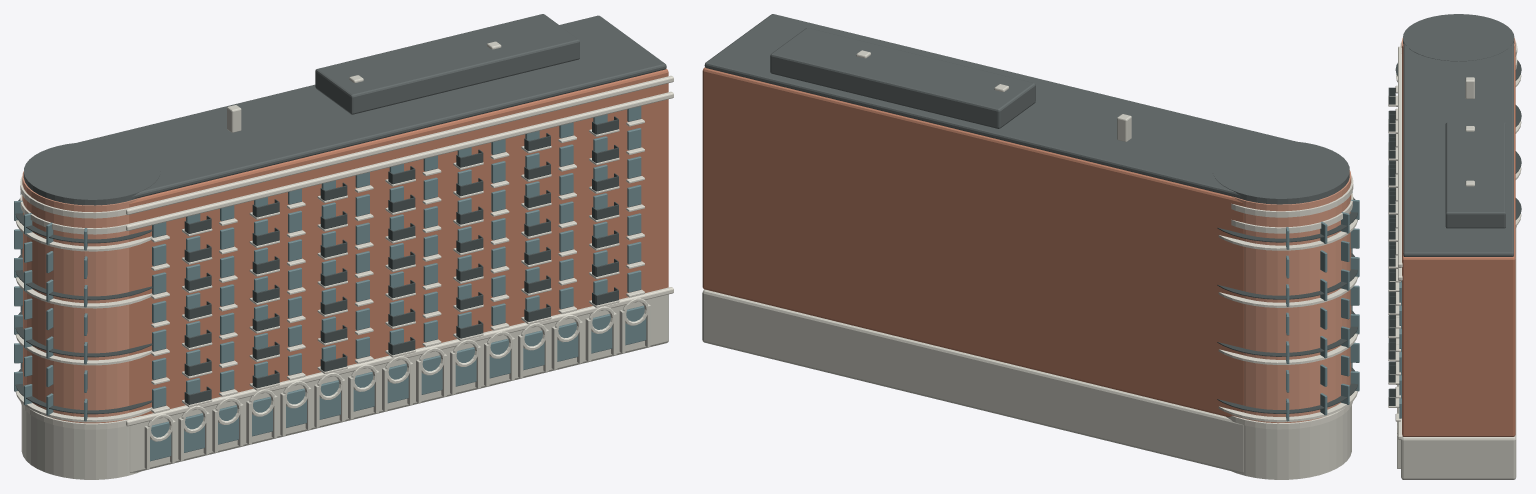
Rendered from wukang-mansion.glb.
3 views of the same model, side by side, from view 1: azimuth 30°, elevation 25°; view 2: azimuth 150°, elevation 25°; view 3: azimuth 270°, elevation 25° (orthographic). The views are drawn at different scales.
Parts seen in each view (by area): view 1: runtime-warm brick, runtime-flat charcoal roof, runtime-blue grey glass, runtime-cream trim, runtime-limestone, runtime-dark balcony iron, runtime-sunlit brick; view 2: runtime-warm brick, runtime-flat charcoal roof, runtime-limestone, runtime-sunlit brick, runtime-cream trim, runtime-blue grey glass, runtime-dark balcony iron; view 3: runtime-flat charcoal roof, runtime-warm brick, runtime-limestone, runtime-cream trim, runtime-dark balcony iron, runtime-blue grey glass.
Boxes of the visible parts, box(x1,y1,x2,y2) form: runtime-warm brick: box(129, 69, 668, 418); runtime-flat charcoal roof: box(23, 14, 666, 205); runtime-blue grey glass: box(14, 106, 646, 461); runtime-cream trim: box(15, 75, 673, 429); runtime-limestone: box(21, 41, 668, 479); runtime-dark balcony iron: box(15, 116, 618, 414); runtime-sunlit brick: box(22, 171, 141, 423); runtime-warm brick: box(702, 67, 1243, 418); runtime-flat charcoal roof: box(704, 14, 1349, 204); runtime-limestone: box(702, 50, 1351, 479); runtime-sunlit brick: box(1231, 170, 1351, 423); runtime-cream trim: box(1218, 174, 1357, 429); runtime-blue grey glass: box(1286, 191, 1359, 421); runtime-dark balcony iron: box(1217, 197, 1357, 413); runtime-flat charcoal roof: box(1403, 14, 1514, 256); runtime-warm brick: box(1402, 45, 1515, 436); runtime-limestone: box(1397, 77, 1516, 479); runtime-cream trim: box(1388, 42, 1521, 439); runtime-dark balcony iron: box(1388, 60, 1521, 405); runtime-blue grey glass: box(1399, 281, 1401, 418).
Bounding box in the file's own units: 40.09 × 18.83 × 9.27.
